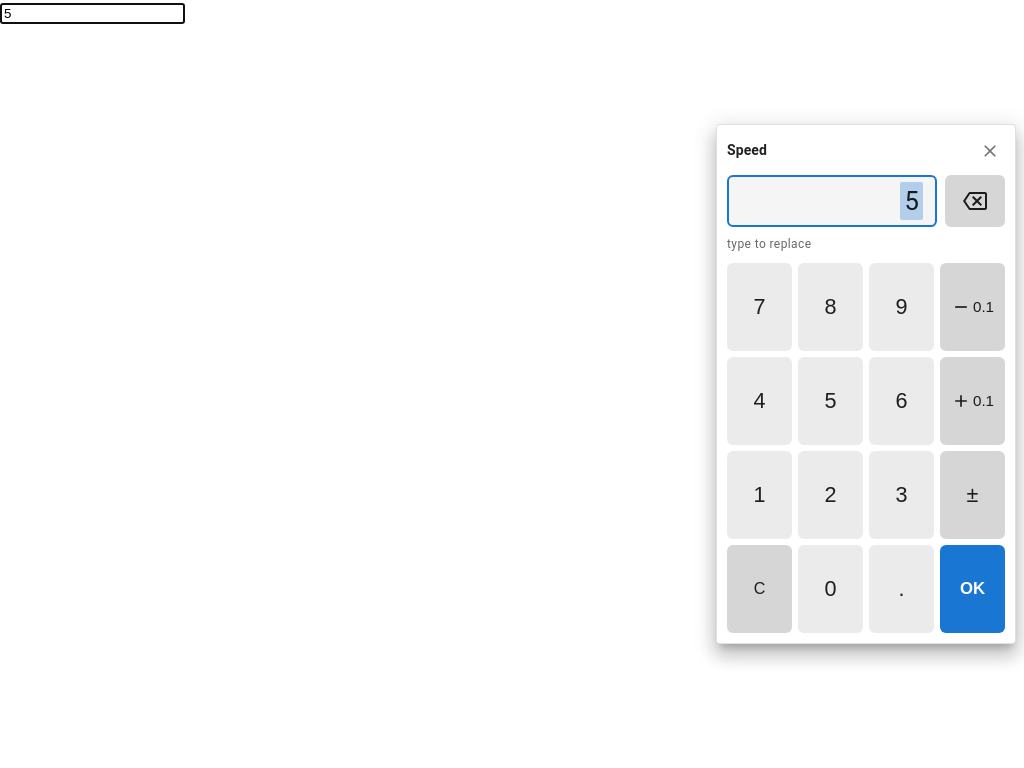
TouchKeypadHost › cancel leaves the field unchanged
The width and height of the screenshot is (1024, 768).
Click the button "9" at (902, 307), box [869,263,934,351]
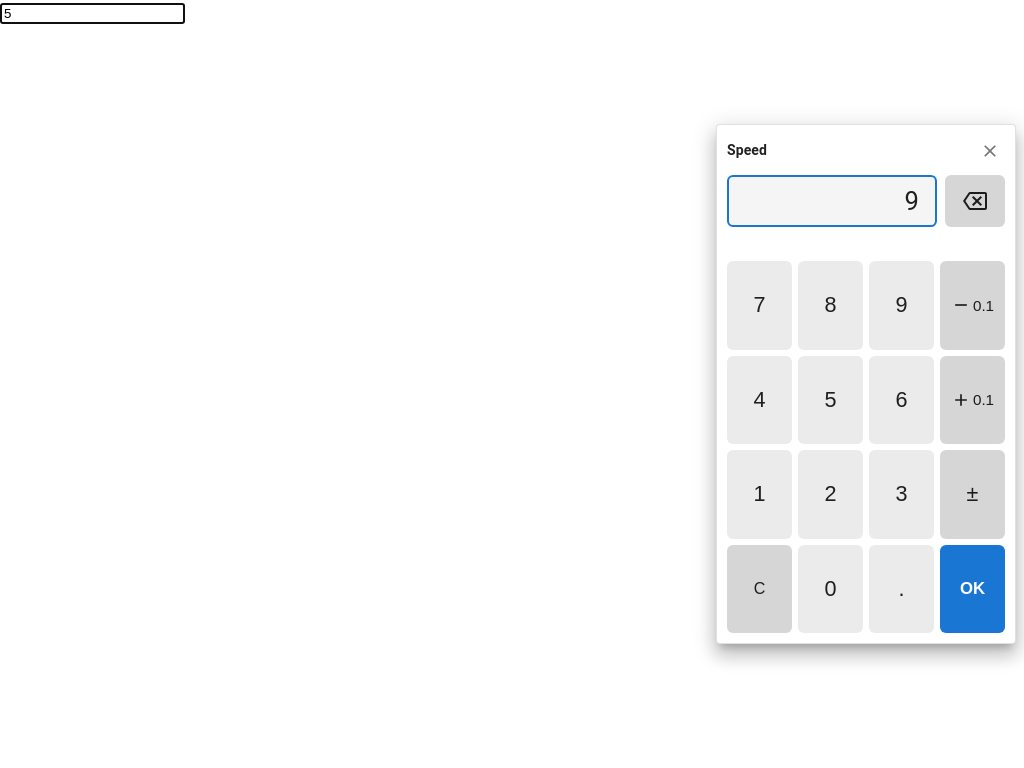
Click the button named "Cancel" at (990, 151), box [975,136,1005,166]
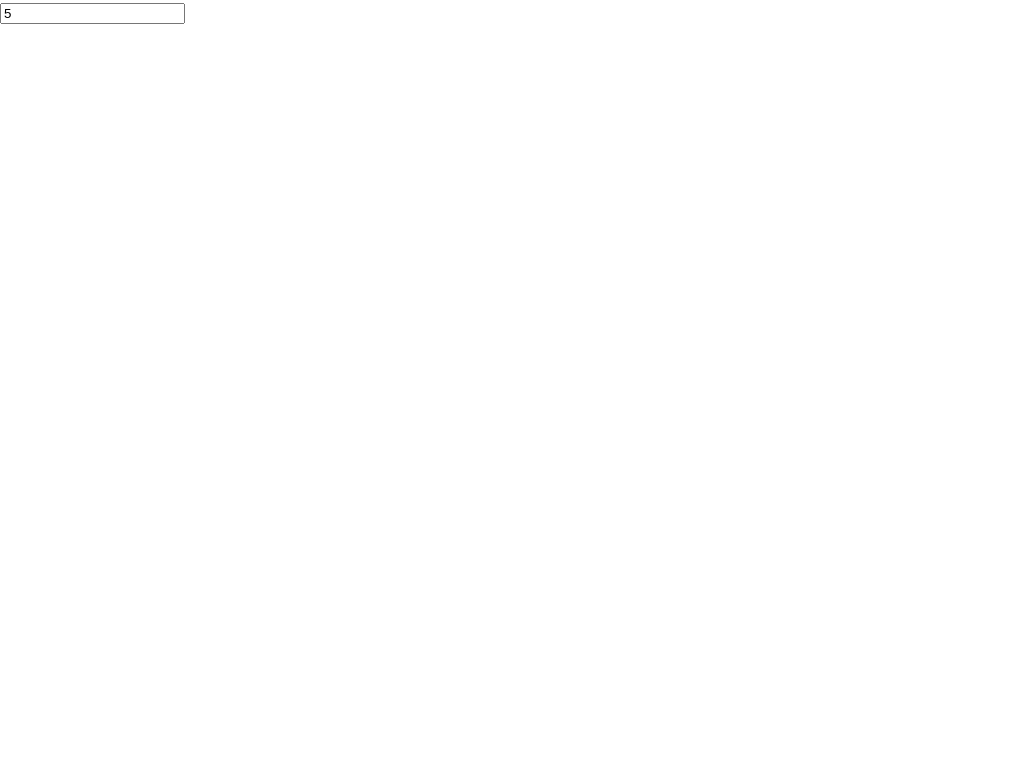
Expected: the field named "Speed" holds "5", [0,3,185,24]
Result: the dialog is gone
